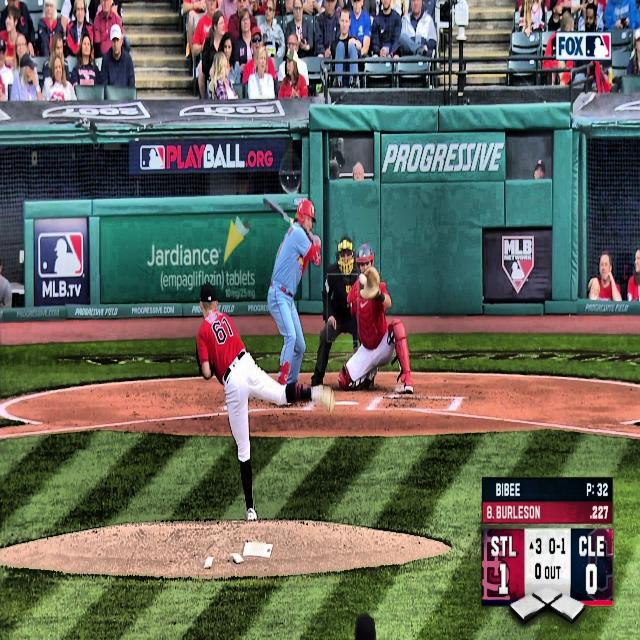baseball: (359, 272, 368, 287)
